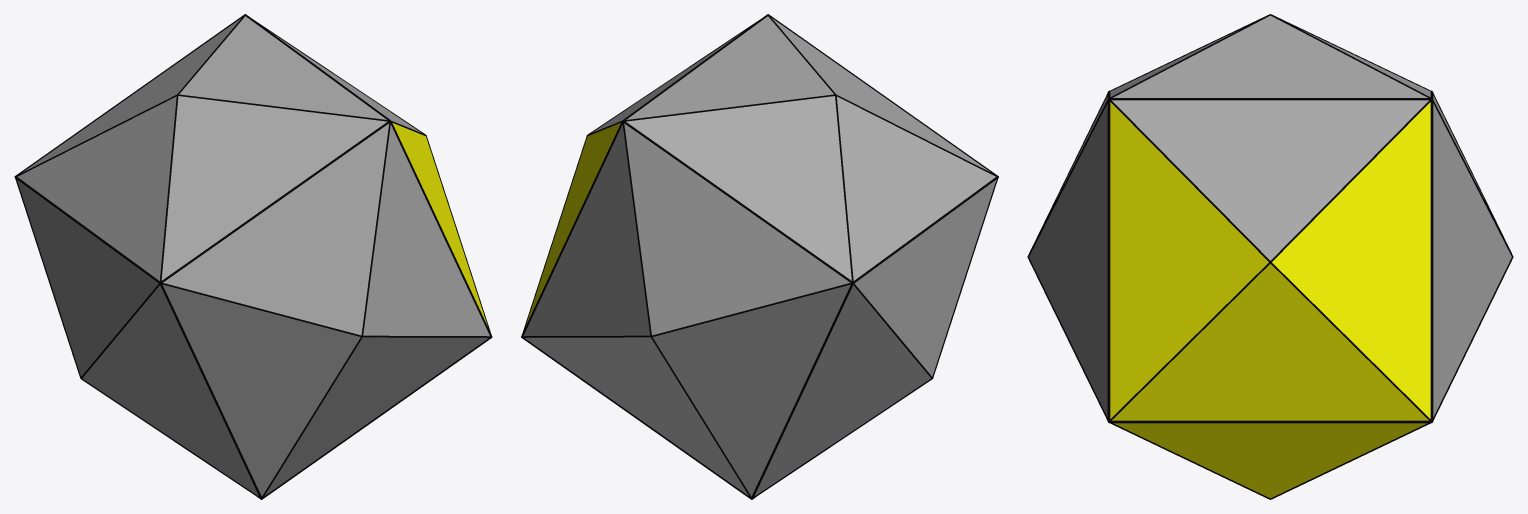
Rendered from TetrakisHexahedron_1.glb.
3 views of the same model, side by side, from view 1: azimuth 30°, elevation 25°; view 2: azimuth 150°, elevation 25°; view 3: azimuth 270°, elevation 25° (orthographic). The views are drawn at different scales.
Bounding box in the file's own units: 2.92 × 2.93 × 3.19.
